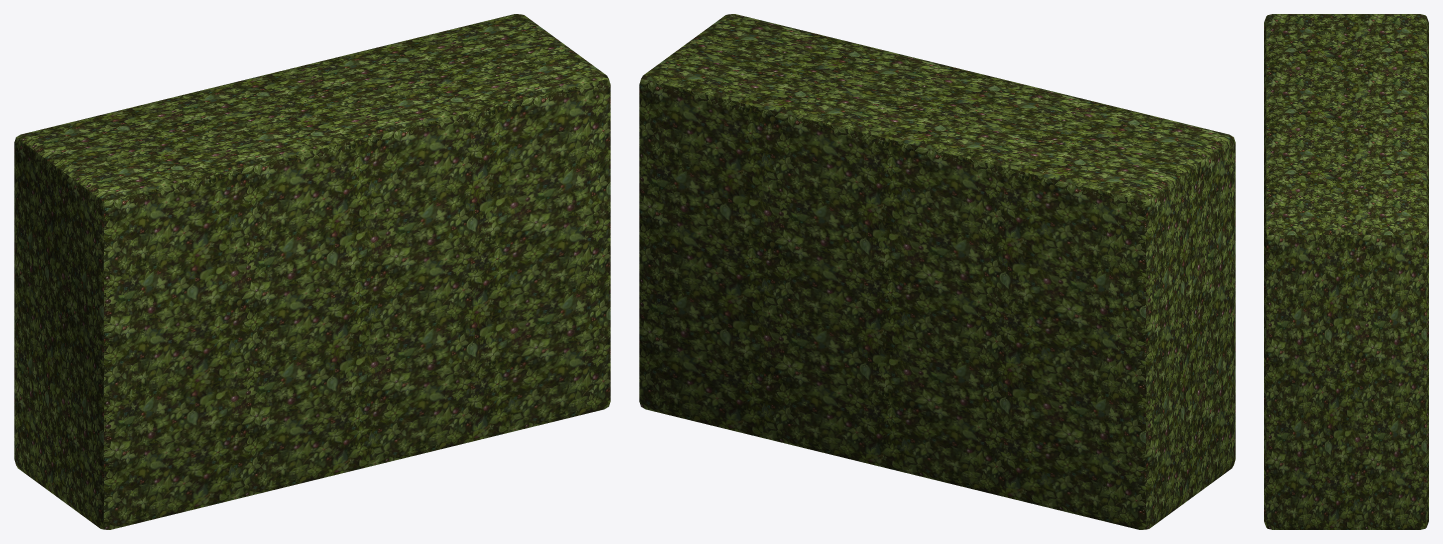
The model's file is Push.fbx.
3 renders of one model, left to right at view 1: azimuth 30°, elevation 25°; view 2: azimuth 150°, elevation 25°; view 3: azimuth 270°, elevation 25°, orthographic. The views are drawn at different scales.
Visible parts, largest first — view 1: Box001; view 2: Box001; view 3: Box001.
Part boxes in pixels (bbox=[...]): Box001: bbox=[14, 14, 610, 529]; Box001: bbox=[639, 14, 1235, 529]; Box001: bbox=[1264, 14, 1428, 529].
Size of the model in its own units: 62.99 by 39.37 by 19.69.
1 material, 1 textured.
